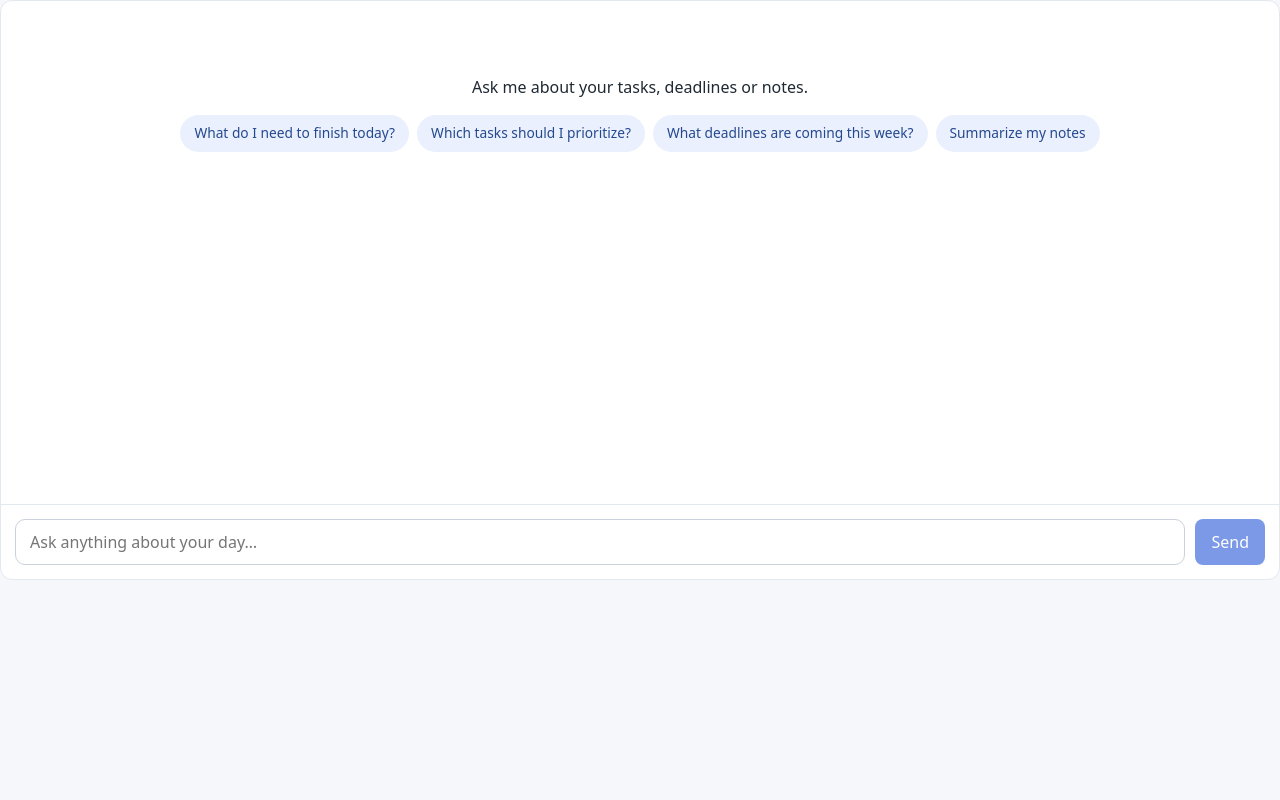
Test case: ChatAssistant › sends a suggestion when a chip is clicked
Click the button "Summarize my notes". click: point(1018, 133)
box: [936,115,1100,152]
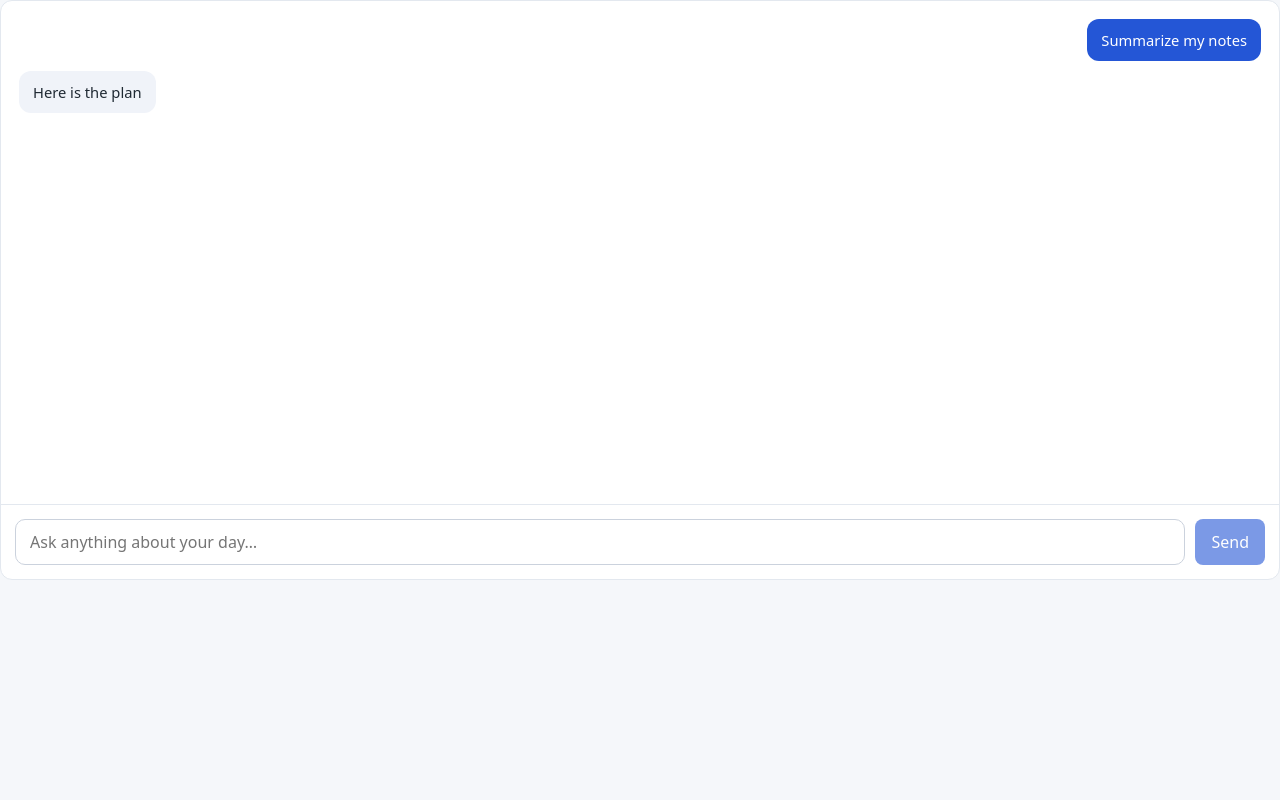
Now the text "Here is the plan" is shown, box [33,81,142,103]
